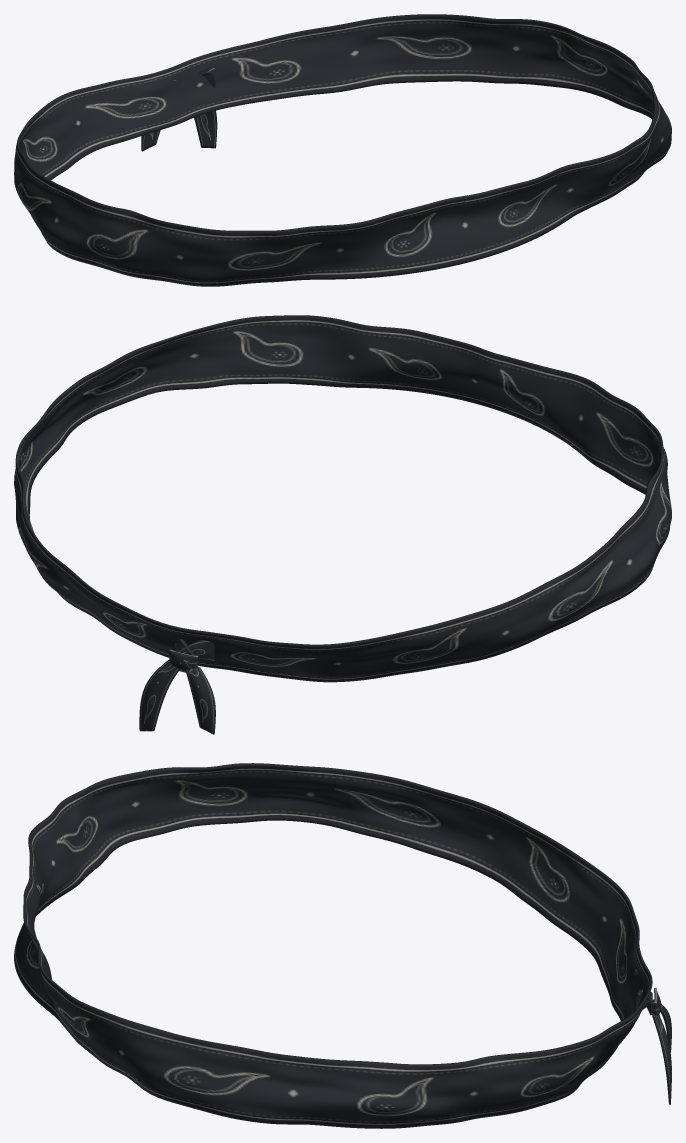
Rendered from Masculine-afro-bandana.glb.
3 renders of one model, top to bottom at view 1: azimuth 30°, elevation 25°; view 2: azimuth 150°, elevation 25°; view 3: azimuth 270°, elevation 25°, orthographic. The views are drawn at different scales.
Visible parts, largest first — view 1: Bandana / folded forehead wrap, Bandana / falling tie 1; view 2: Bandana / folded forehead wrap, Bandana / falling tie 1, Bandana / falling tie -1; view 3: Bandana / folded forehead wrap, Bandana / falling tie 1.
Boxes of the visible parts, bbox=[...] form: Bandana / folded forehead wrap: bbox=[14, 14, 671, 286]; Bandana / falling tie 1: bbox=[194, 110, 217, 148]; Bandana / folded forehead wrap: bbox=[14, 315, 671, 682]; Bandana / falling tie 1: bbox=[139, 660, 179, 731]; Bandana / falling tie -1: bbox=[185, 666, 215, 734]; Bandana / folded forehead wrap: bbox=[14, 763, 652, 1128]; Bandana / falling tie 1: bbox=[652, 1000, 671, 1104].
Size of the model in its own units: 0.917 by 0.2671 by 0.8167.
Materials: 1 (1 with a texture image).
